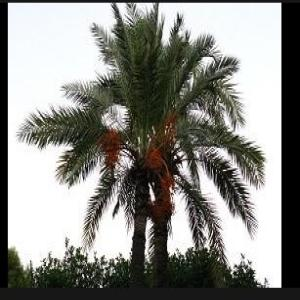palm tree: (15, 2, 266, 286)
